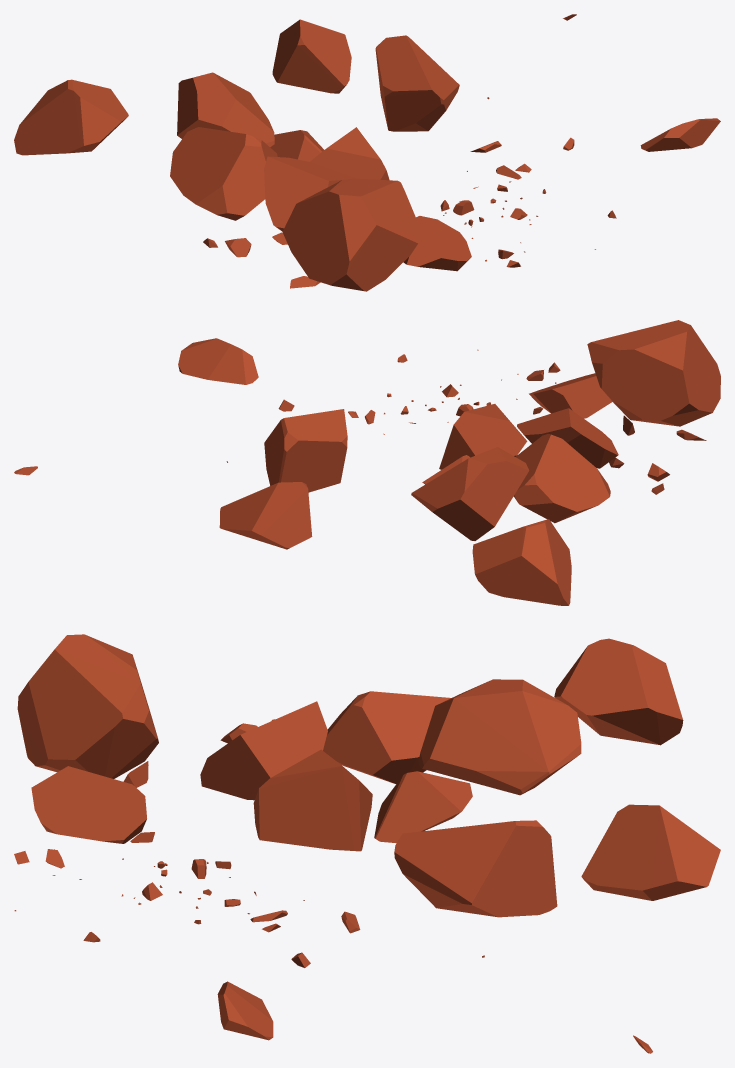
Rendered from BOULDERS.fbx.
The picture shows the model from 3 angles, top to bottom: view 1: azimuth 30°, elevation 25°; view 2: azimuth 150°, elevation 25°; view 3: azimuth 270°, elevation 25°; orthographic projection. The views are drawn at different scales.
Parts seen in each view (by area): view 1: Icosphere_cell.001, Icosphere_cell.009, Icosphere_cell.005, Icosphere_cell, Icosphere_cell.011, Icosphere_cell.003, Icosphere_cell.015, Icosphere_cell.002, Icosphere_cell.013, Icosphere_cell.008, Icosphere_cell.019; view 2: Icosphere_cell.001, Icosphere_cell.005, Icosphere_cell.003, Icosphere_cell.009, Icosphere_cell, Icosphere_cell.011, Icosphere_cell.013, Icosphere_cell.015, Icosphere_cell.008, Icosphere_cell.002; view 3: Icosphere_cell.001, Icosphere_cell.003, Icosphere_cell, Icosphere_cell.005, Icosphere_cell.011, Icosphere_cell.013, Icosphere_cell.009, Icosphere_cell.002, Icosphere_cell.015, Icosphere_cell.019, Icosphere_cell.008.
Part boxes in pixels (x1,y1,x2,y2): Icosphere_cell.001: (282,178,419,291); Icosphere_cell.009: (170,127,277,220); Icosphere_cell.005: (14,79,128,155); Icosphere_cell: (375,35,459,131); Icosphere_cell.011: (272,19,351,93); Icosphere_cell.003: (177,72,274,146); Icosphere_cell.015: (264,156,354,231); Icosphere_cell.002: (403,216,471,271); Icosphere_cell.013: (310,127,389,180); Icosphere_cell.008: (640,118,720,151); Icosphere_cell.019: (270,130,323,161); Icosphere_cell.001: (587,320,720,426); Icosphere_cell.005: (472,519,571,605); Icosphere_cell.003: (411,447,529,540); Icosphere_cell.009: (513,434,610,523); Icosphere_cell: (264,409,347,492); Icosphere_cell.011: (219,482,312,549); Icosphere_cell.013: (439,404,527,469); Icosphere_cell.015: (517,408,618,468); Icosphere_cell.008: (178,338,258,384); Icosphere_cell.002: (529,373,612,418); Icosphere_cell.001: (17,634,158,778); Icosphere_cell.003: (418,679,581,795); Icosphere_cell: (394,820,557,917); Icosphere_cell.005: (554,638,683,745); Icosphere_cell.011: (581,804,720,900); Icosphere_cell.013: (253,749,372,851); Icosphere_cell.009: (323,691,450,783); Icosphere_cell.002: (31,766,146,843); Icosphere_cell.015: (200,701,327,800); Icosphere_cell.019: (374,771,472,843); Icosphere_cell.008: (217,981,273,1040).
Bounding box in the file's own units: 3011 × 501 × 2536.
